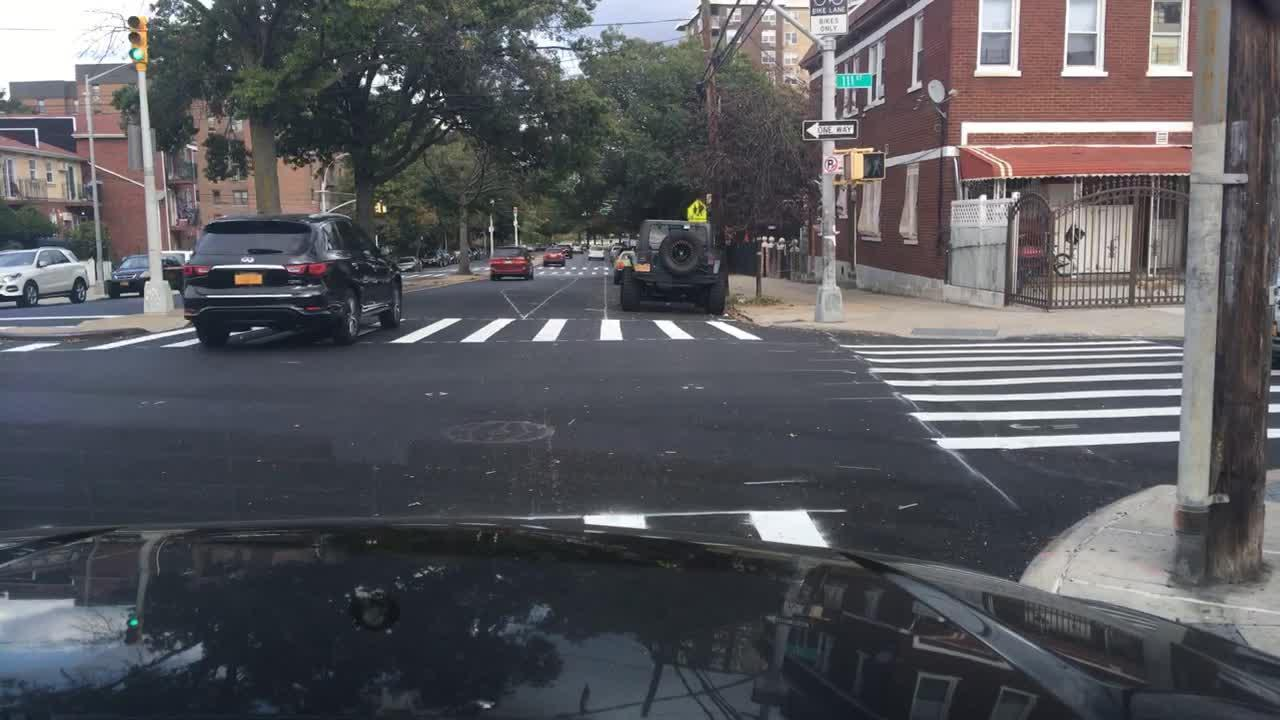Infiniti: (236, 254, 257, 269)
